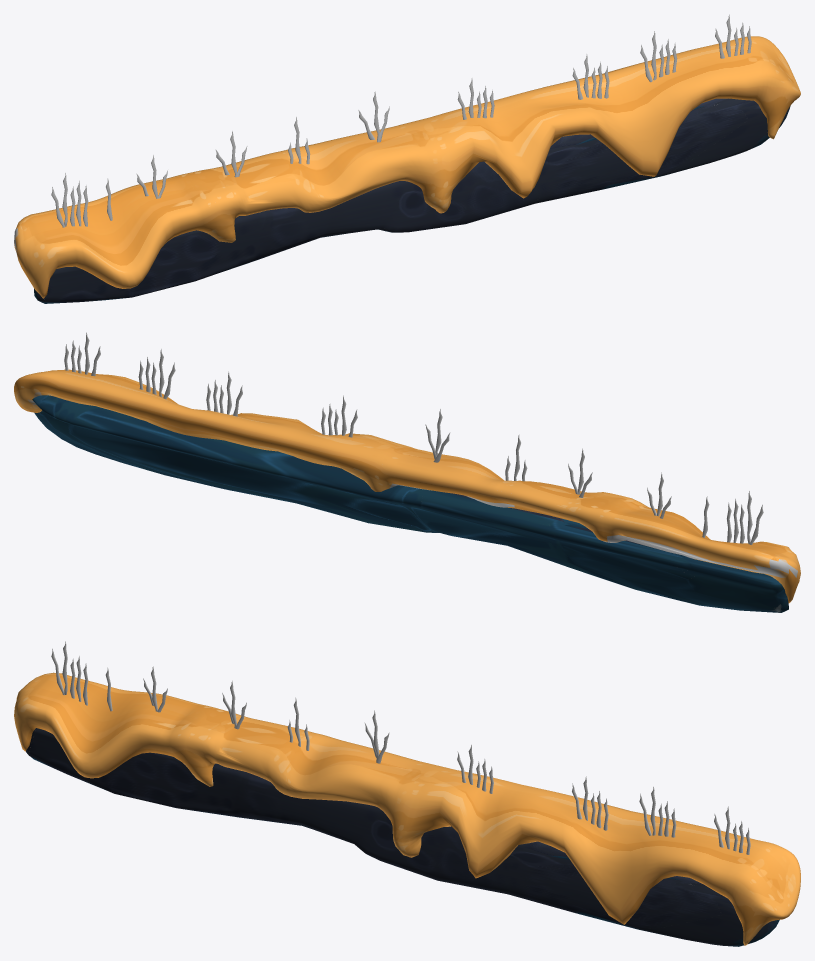
Rendered from SeaBig.fbx.
The picture shows the model from 3 angles, top to bottom: view 1: azimuth 30°, elevation 25°; view 2: azimuth 150°, elevation 25°; view 3: azimuth 330°, elevation 25°; orthographic projection.
Visible parts, largest first — view 1: sand, govde, ots; view 2: govde, sand, ots; view 3: sand, govde, ots.
Part boxes in pixels (left/top/right/bottom): sand: left=14, top=36, right=800, bottom=298; govde: left=34, top=98, right=790, bottom=303; ots: left=51, top=14, right=751, bottom=227; govde: left=32, top=395, right=788, bottom=612; sand: left=14, top=369, right=800, bottom=603; ots: left=64, top=332, right=763, bottom=544; sand: left=14, top=672, right=800, bottom=945; govde: left=26, top=728, right=779, bottom=946; ots: left=51, top=641, right=750, bottom=854.
Size of the model in its own units: 270 by 47.69 by 26.86.
